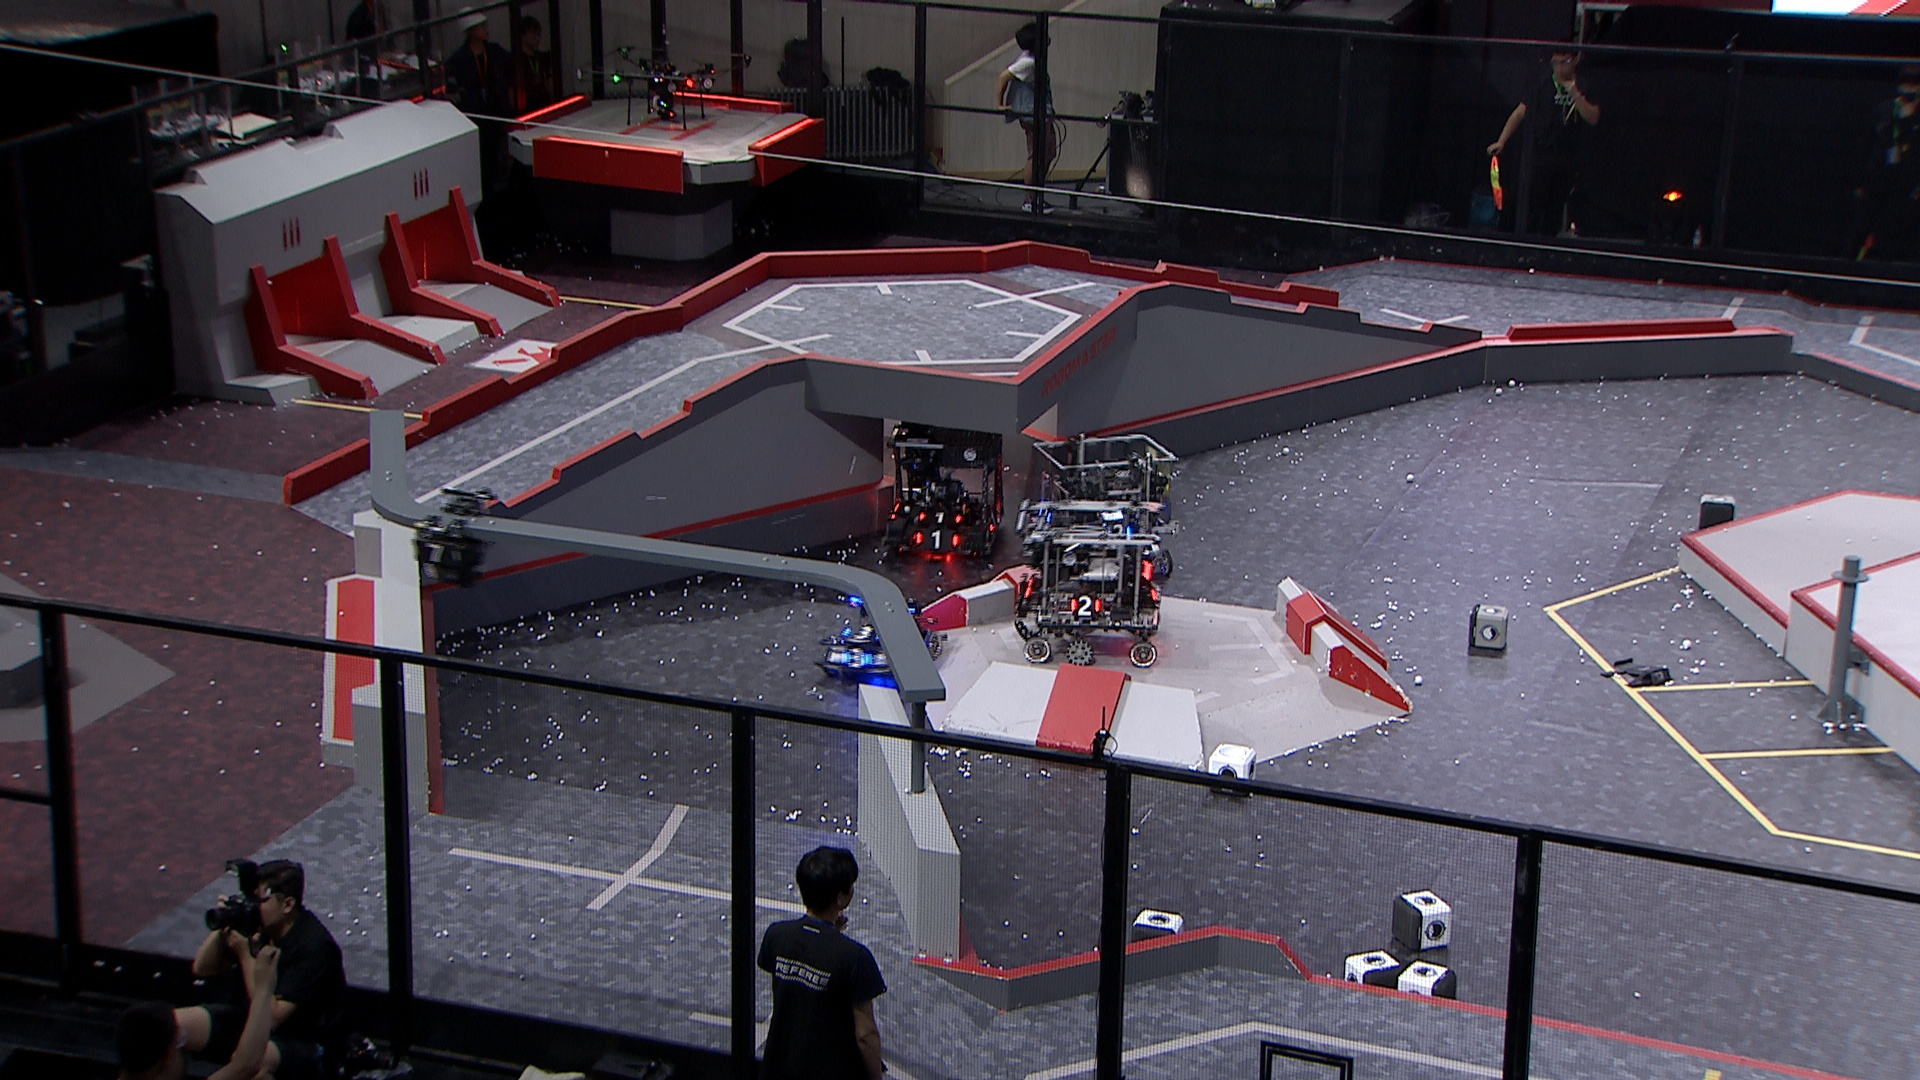armor: (410, 541, 460, 566), (913, 527, 959, 553), (840, 646, 876, 671), (1068, 595, 1102, 618), (840, 624, 878, 644), (915, 509, 963, 524), (984, 510, 1002, 534), (1147, 579, 1162, 604)
car: (1010, 502, 1166, 666), (1027, 425, 1182, 580), (880, 411, 1005, 568), (814, 588, 942, 680)
watcher: (407, 484, 495, 589)
